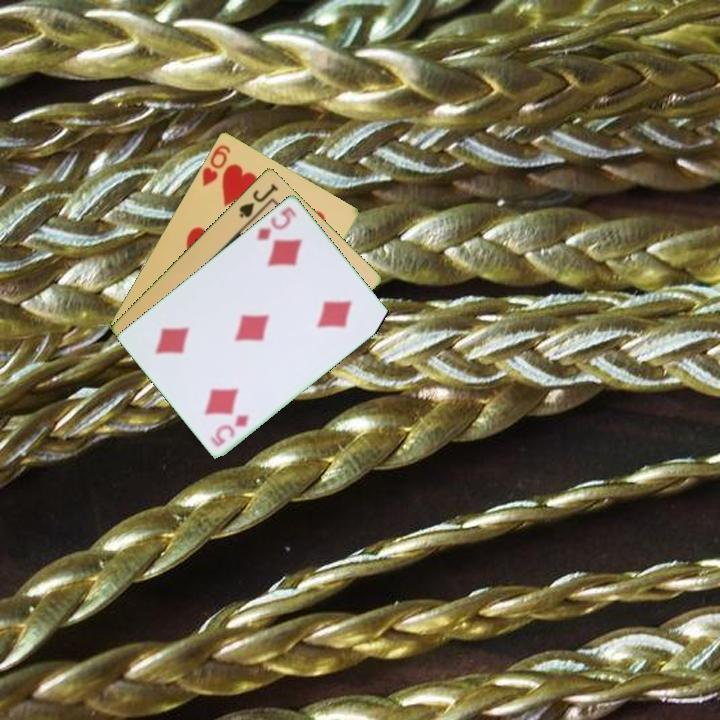5d: (253, 203, 300, 243), (208, 410, 251, 450)
6h: (198, 141, 234, 189)
Js: (235, 179, 281, 221)
